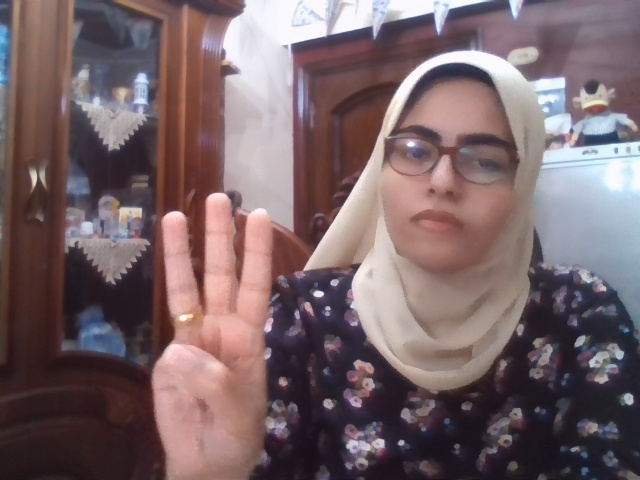W: (152, 192, 274, 480)
